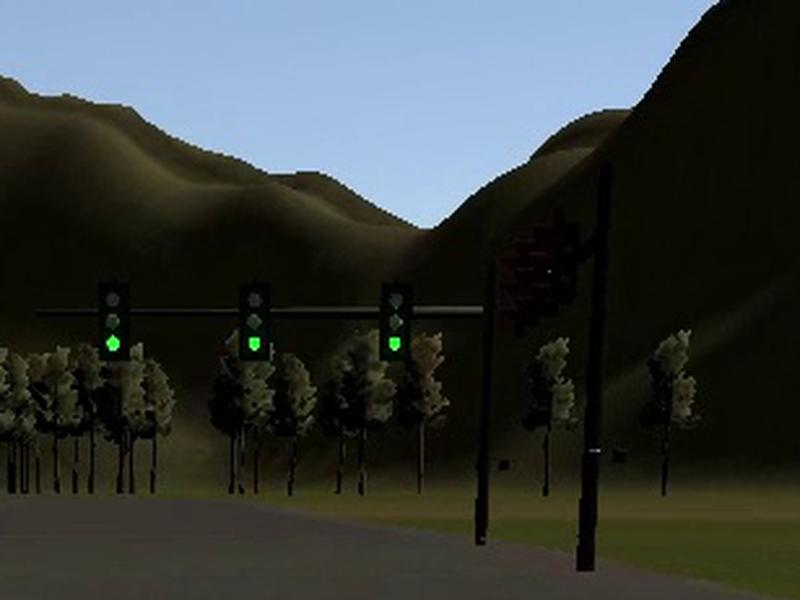Green: (98, 281, 132, 362), (379, 281, 411, 361), (238, 283, 270, 360)
